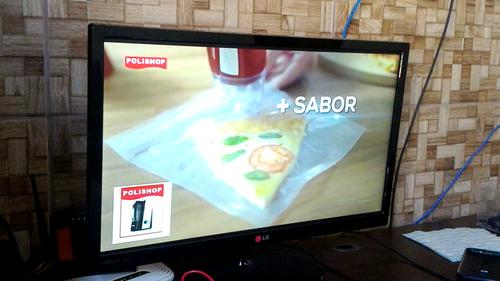Polishop #1: (110, 181, 173, 244)
